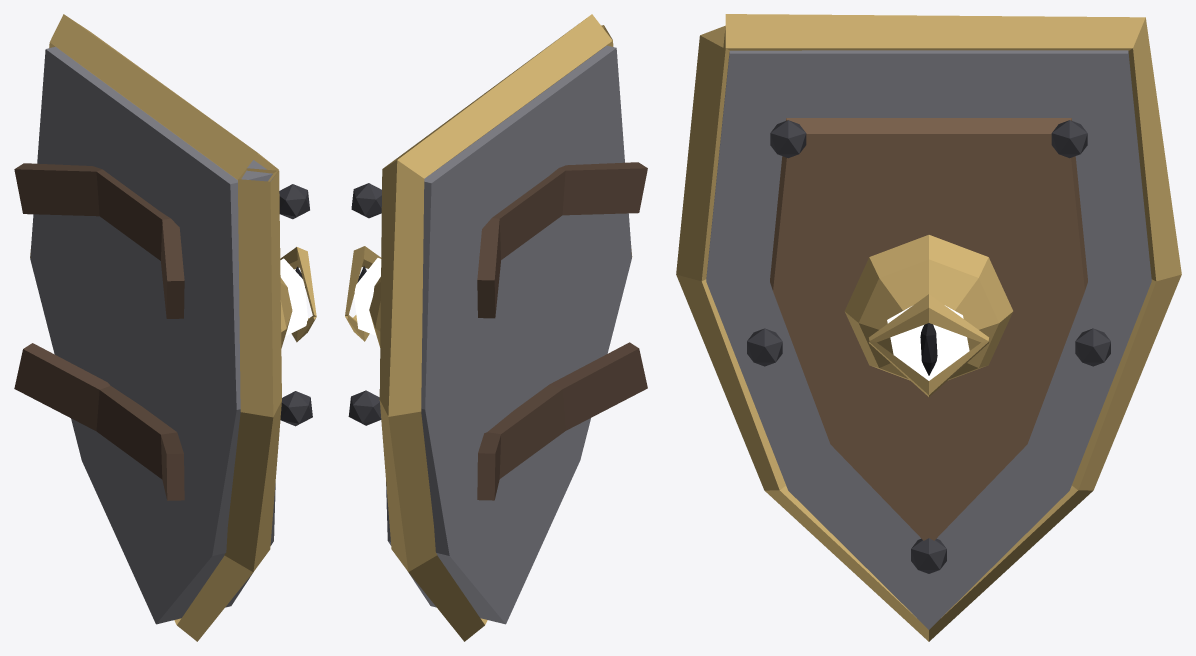
The model's file is shield-broad-guard.glb.
The picture shows the model from 3 angles, left to right: view 1: azimuth 30°, elevation 25°; view 2: azimuth 150°, elevation 25°; view 3: azimuth 270°, elevation 25°; orthographic projection. The views are drawn at different scales.
Parts seen in each view (by area): view 1: broad-guard; view 2: broad-guard; view 3: broad-guard.
Boxes of the visible parts, x1,y1,x2,y2 form: broad-guard: (14, 14, 316, 641); broad-guard: (345, 14, 647, 641); broad-guard: (676, 14, 1181, 641).
Bounding box in the file's own units: 0.1158 × 0.2872 × 0.2156.
